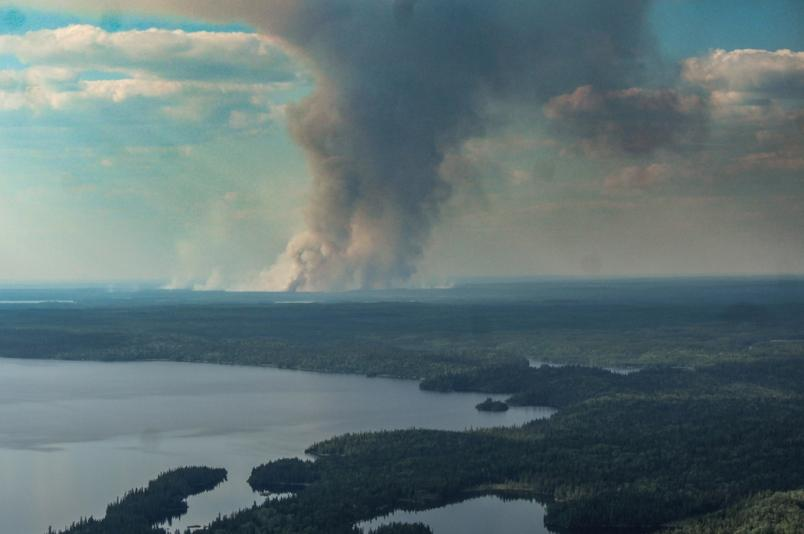smoke: (238, 5, 517, 292)
